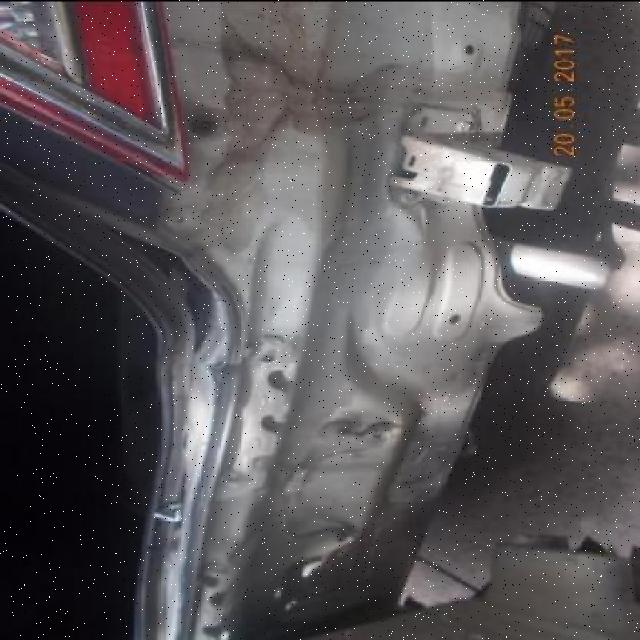damage: (142, 1, 577, 640)
